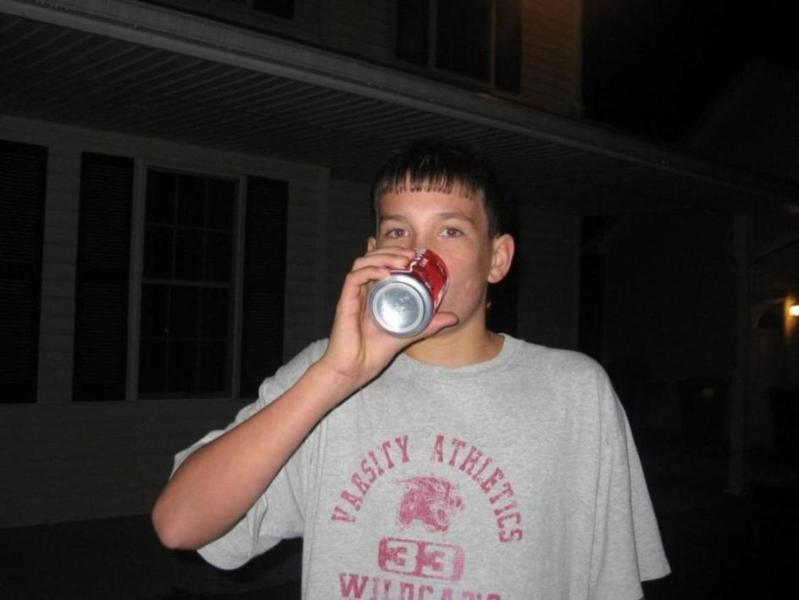person: (151, 138, 675, 599)
